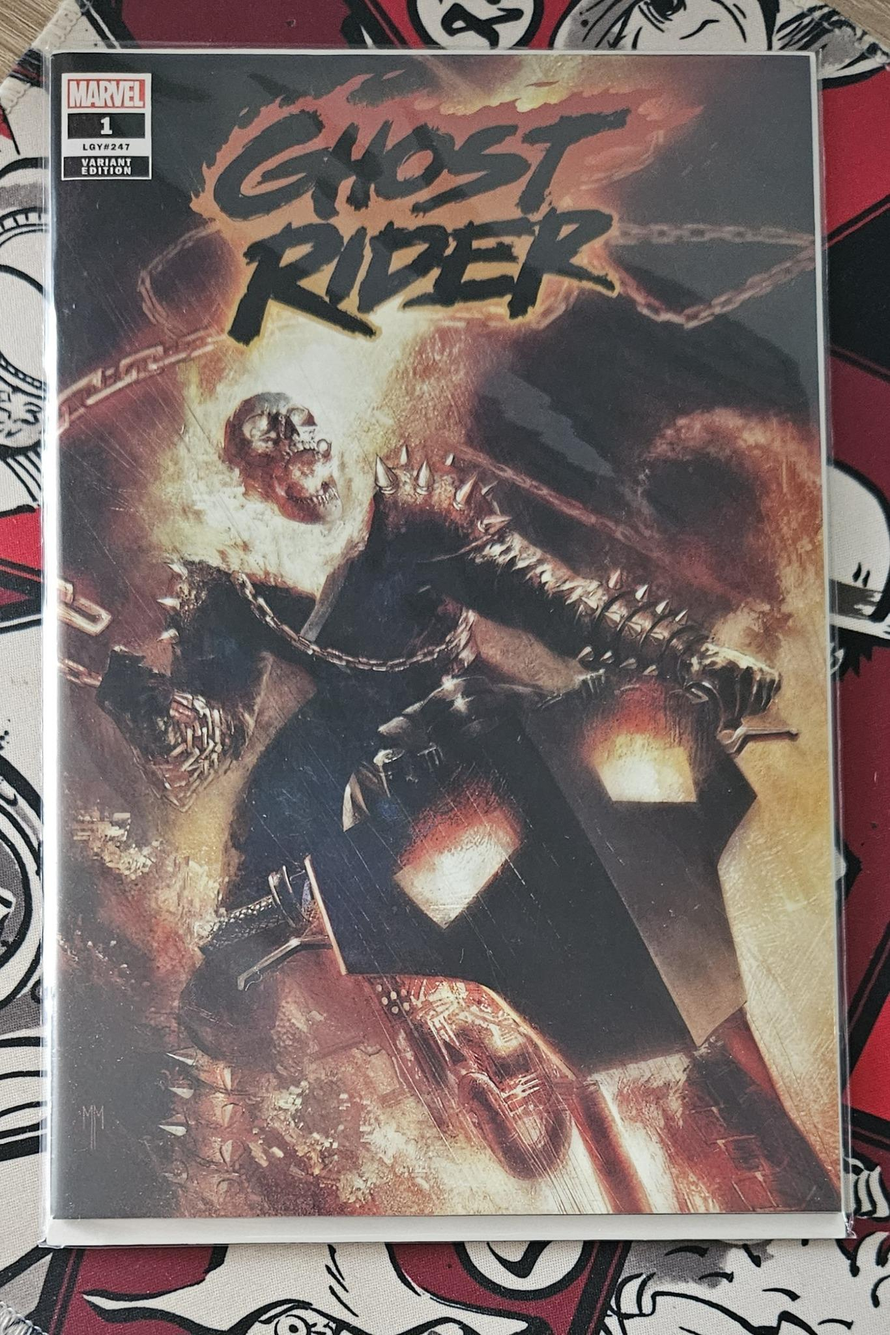comic: (42, 47, 842, 1242)
